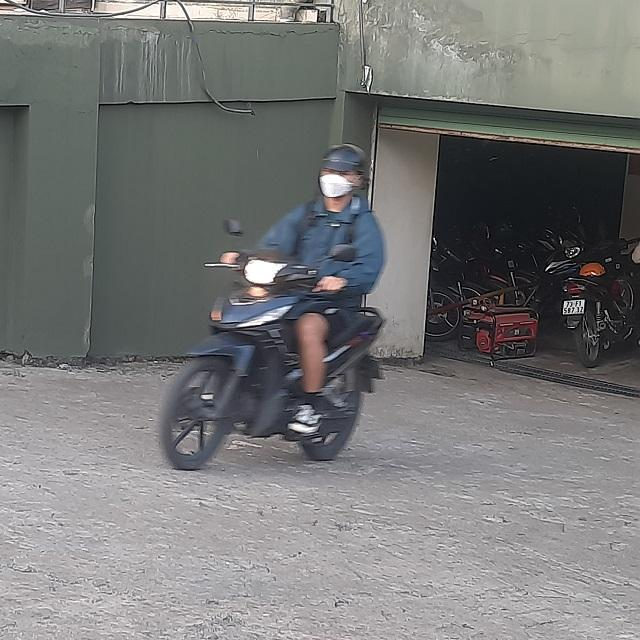Helmet: (318, 142, 366, 198)
